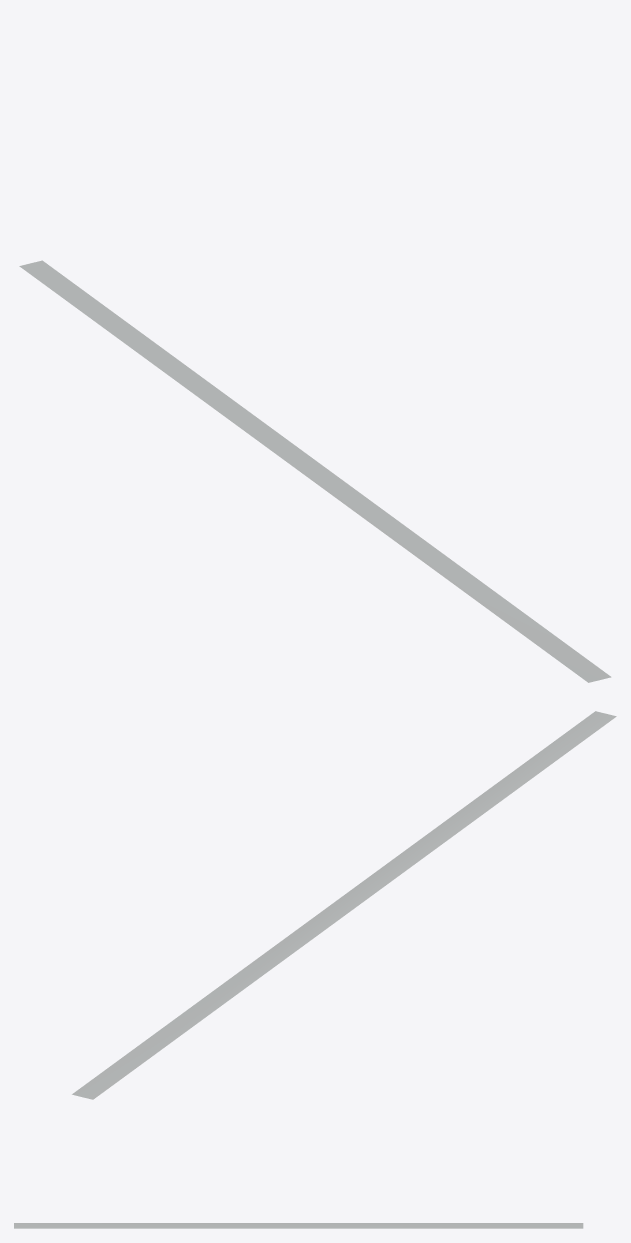
The model's file is FridgebodymeshFridgeD4_0_GeomSubset_2.obj.
3 views of the same model, one above another, from view 1: azimuth 30°, elevation 25°; view 2: azimuth 150°, elevation 25°; view 3: azimuth 270°, elevation 25° (orthographic). The views are drawn at different scales.
Visible parts, largest first — view 1: FridgebodymeshFridgeD4_0_GeomSubset_2; view 2: FridgebodymeshFridgeD4_0_GeomSubset_2; view 3: FridgebodymeshFridgeD4_0_GeomSubset_2.
Part boxes in pixels (<box>): FridgebodymeshFridgeD4_0_GeomSubset_2: <box>19,260,611,682</box>; FridgebodymeshFridgeD4_0_GeomSubset_2: <box>72,711,616,1099</box>; FridgebodymeshFridgeD4_0_GeomSubset_2: <box>14,1223,583,1228</box>.
Size of the model in its own units: 0.0893 by 0.3498 by 1.78.
